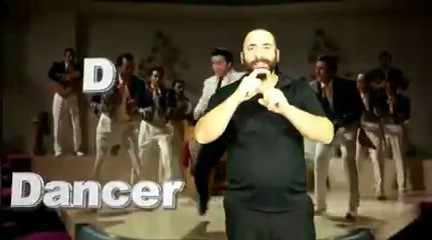D: (242, 68, 286, 114)
